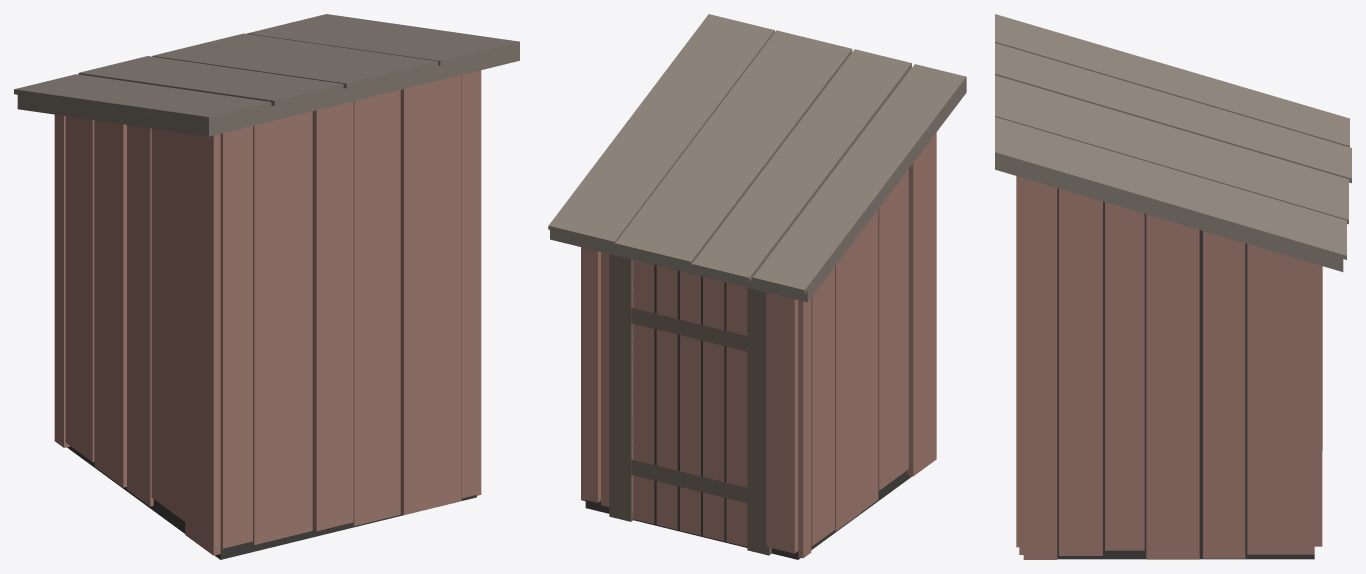
The model's file is recon_1835_blk_washington_clark_a3_05__inferred_1835.glb.
The picture shows the model from 3 angles, left to right: view 1: azimuth 30°, elevation 25°; view 2: azimuth 150°, elevation 25°; view 3: azimuth 270°, elevation 25°; orthographic projection. The views are drawn at different scales.
Parts seen in each view (by area): view 1: recon_1835_blk_washington_clark_a3_05__inferred_1835; view 2: recon_1835_blk_washington_clark_a3_05__inferred_1835; view 3: recon_1835_blk_washington_clark_a3_05__inferred_1835.
Part boxes in pixels (<box>): recon_1835_blk_washington_clark_a3_05__inferred_1835: <box>14,14,519,559</box>; recon_1835_blk_washington_clark_a3_05__inferred_1835: <box>548,14,966,559</box>; recon_1835_blk_washington_clark_a3_05__inferred_1835: <box>995,14,1351,559</box>.
Size of the model in its own units: 1.9 by 2.7 by 2.08.
